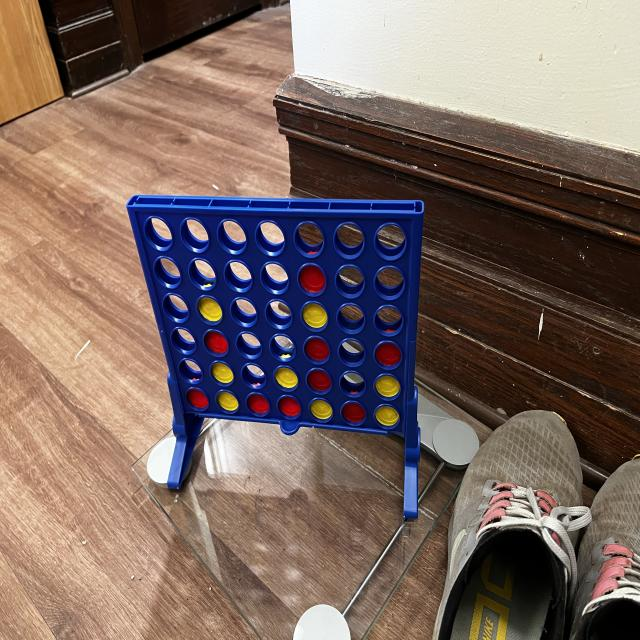Board: (130, 193, 425, 444)
No Piece: (370, 220, 408, 261), (330, 218, 367, 258), (254, 217, 288, 257), (294, 216, 325, 259), (142, 214, 175, 253), (217, 216, 249, 256), (334, 260, 366, 300), (178, 216, 210, 255), (374, 262, 405, 302), (187, 255, 220, 292), (372, 303, 405, 336), (151, 254, 183, 288), (335, 301, 367, 335), (160, 291, 192, 324), (224, 259, 254, 294), (229, 295, 260, 328), (261, 260, 290, 295), (234, 330, 267, 360), (264, 298, 294, 331), (336, 336, 366, 368), (338, 368, 368, 398), (270, 330, 298, 361), (170, 326, 198, 356), (240, 360, 267, 390), (177, 356, 204, 384)
Red Piece: (296, 261, 329, 297), (373, 337, 404, 370), (305, 366, 334, 396), (303, 334, 332, 364), (339, 400, 368, 428), (202, 329, 230, 357), (275, 394, 303, 421), (185, 385, 211, 411), (247, 390, 270, 419)
Yellow Piece: (195, 293, 224, 327), (300, 300, 330, 332), (372, 400, 401, 432), (373, 373, 402, 401), (208, 359, 236, 387), (272, 364, 299, 392), (307, 396, 334, 424), (214, 389, 240, 416)
